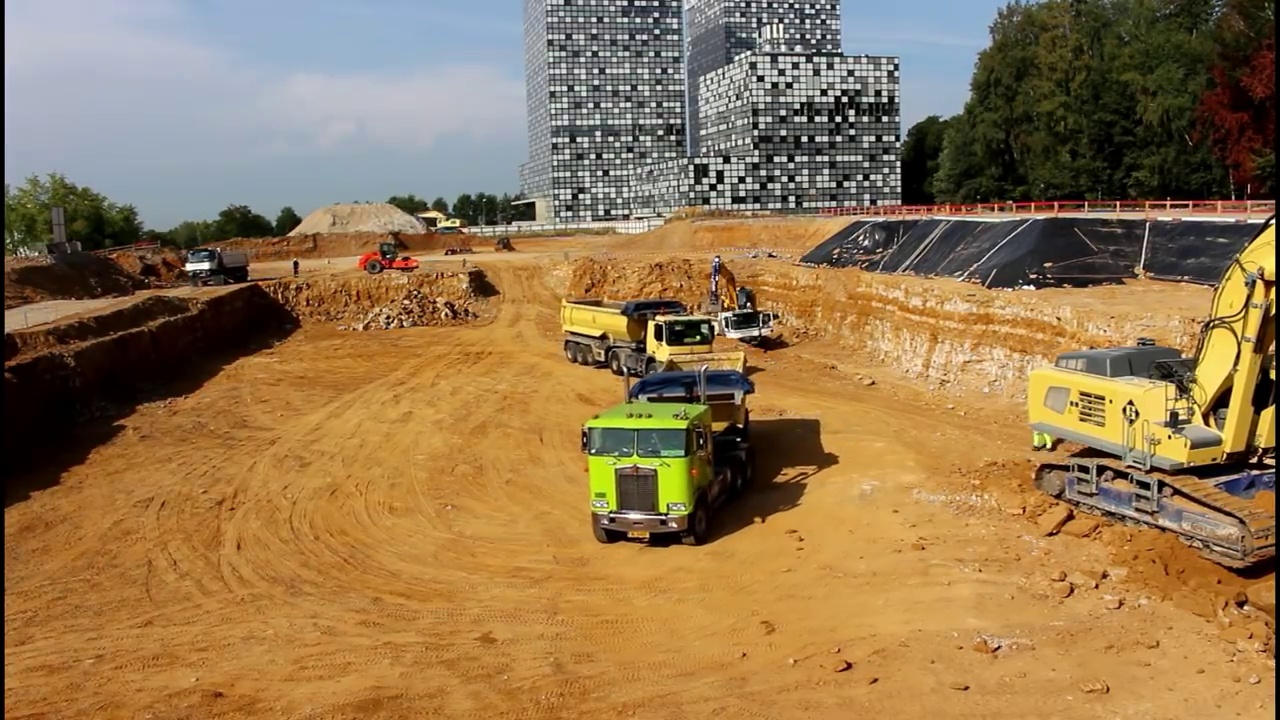compactor: (358, 238, 420, 276)
excavator: (1019, 210, 1280, 583), (700, 252, 767, 330), (413, 205, 467, 238)
truck: (577, 345, 751, 552), (560, 290, 719, 381), (691, 303, 775, 352), (185, 245, 253, 290)
worker: (289, 255, 305, 283)
